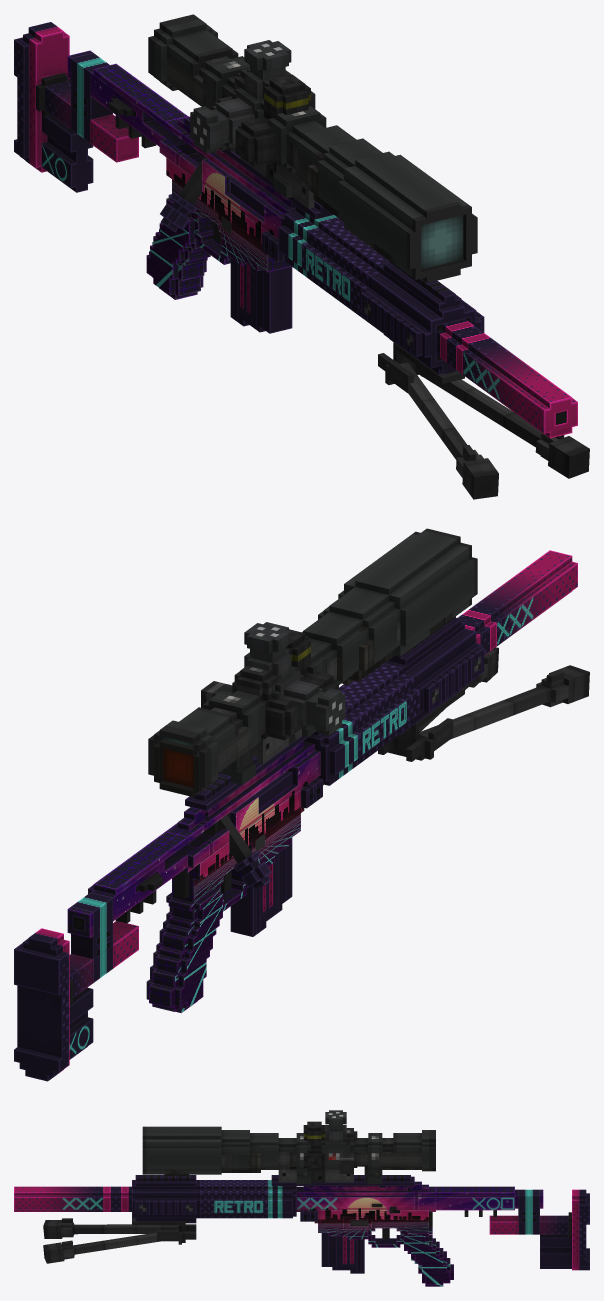
The model's file is RD_MCMILLAN_CS5_RETRO.glb.
3 views of the same model, one above another, from view 1: azimuth 30°, elevation 25°; view 2: azimuth 150°, elevation 25°; view 3: azimuth 270°, elevation 25° (orthographic). The views are drawn at different scales.
Visible parts, largest first — view 1: MCMILLAN_CS5, SCOPE_LEUPOLD_ULTRA, MCMILLAN_CS5_SILENCER, SCOPE_LEUPOLD, MCMILLAN_CS5_CLIP, DIPOD2_LEG2, DIPOD2_LEG1, DIPOD2, SCOPE_NIGHTFORCE, MCMILLAN_CS5_BOLT_P2, MCMILLAN_CS5_BOLT_P1; view 2: MCMILLAN_CS5, SCOPE_LEUPOLD_ULTRA, SCOPE_NIGHTFORCE, MCMILLAN_CS5_SILENCER, SCOPE_LEUPOLD, DIPOD2_LEG1, MCMILLAN_CS5_CLIP, DIPOD2, MCMILLAN_CS5_BOLT_P2, MCMILLAN_CS5_BOLT_P1; view 3: MCMILLAN_CS5, SCOPE_LEUPOLD_ULTRA, MCMILLAN_CS5_SILENCER, SCOPE_LEUPOLD, SCOPE_NIGHTFORCE, MCMILLAN_CS5_CLIP, DIPOD2_LEG1, DIPOD2_LEG2, DIPOD2.
Boxes of the visible parts, x1,y1,x2,y2 form: MCMILLAN_CS5: (14,22,484,374); SCOPE_LEUPOLD_ULTRA: (148,14,477,282); MCMILLAN_CS5_SILENCER: (436,319,577,438); SCOPE_LEUPOLD: (156,56,394,264); MCMILLAN_CS5_CLIP: (230,258,292,333); DIPOD2_LEG2: (415,365,589,478); DIPOD2_LEG1: (400,363,498,499); DIPOD2: (378,342,464,393); SCOPE_NIGHTFORCE: (164,61,401,269); MCMILLAN_CS5_BOLT_P2: (160,156,207,232); MCMILLAN_CS5_BOLT_P1: (203,156,269,216); MCMILLAN_CS5: (14,616,484,1081); SCOPE_LEUPOLD_ULTRA: (148,528,477,795); SCOPE_NIGHTFORCE: (154,612,452,796); MCMILLAN_CS5_SILENCER: (458,550,577,655); SCOPE_LEUPOLD: (159,617,445,796); DIPOD2_LEG1: (419,665,589,739); MCMILLAN_CS5_CLIP: (230,837,292,936); DIPOD2: (378,688,464,761); MCMILLAN_CS5_BOLT_P2: (218,815,271,890); MCMILLAN_CS5_BOLT_P1: (203,767,292,835); MCMILLAN_CS5: (132,1175,589,1286); SCOPE_LEUPOLD_ULTRA: (142,1110,435,1184); MCMILLAN_CS5_SILENCER: (14,1186,131,1211); SCOPE_LEUPOLD: (171,1121,435,1182); SCOPE_NIGHTFORCE: (164,1128,433,1182); MCMILLAN_CS5_CLIP: (321,1233,364,1273); DIPOD2_LEG1: (43,1218,178,1238); DIPOD2_LEG2: (43,1229,177,1263); DIPOD2: (132,1218,196,1244).
Bounding box in the file's own units: 0.2186 × 0.5117 × 1.58.
5 materials, 5 textured.
